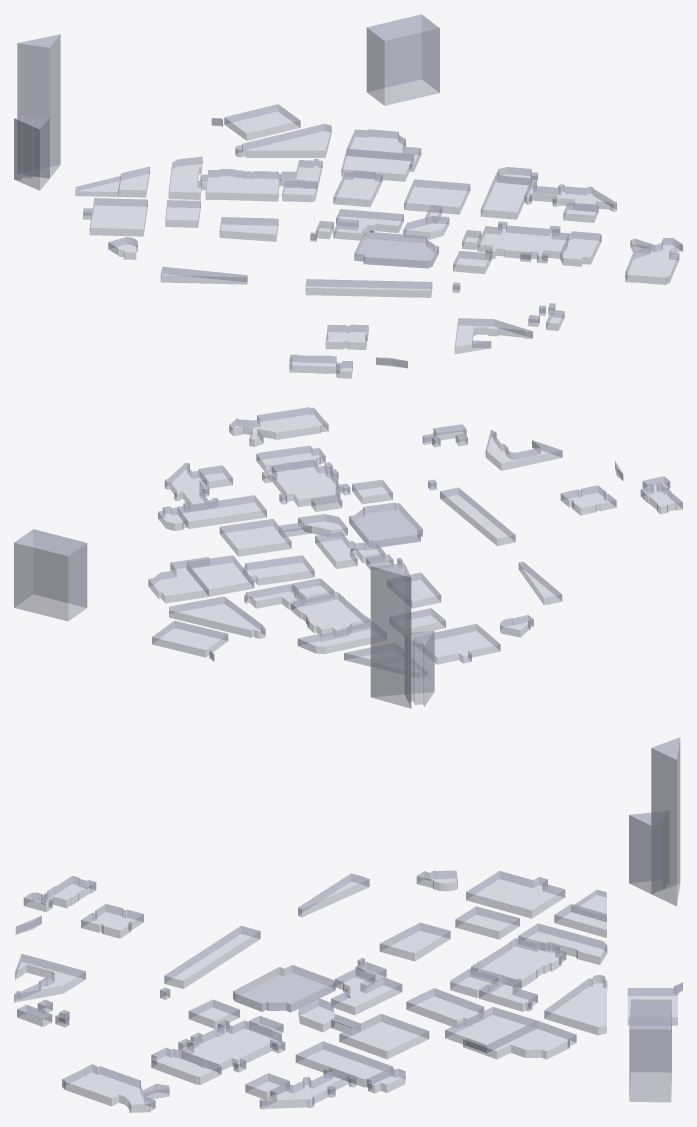
The model's file is tile-buildings(-84.390000,33.750000,-84.385000,33.755000).osm.obj.postprocessed.obj.
The picture shows the model from 3 angles, top to bottom: view 1: azimuth 30°, elevation 25°; view 2: azimuth 150°, elevation 25°; view 3: azimuth 270°, elevation 25°; orthographic projection. The views are drawn at different scales.
Parts seen in each view (by area): view 1: Building_34_Peachtree_St._Building, Building_Robert_W._Woodruff_Volunteer_Service_Center_Building, Building_Sports_Arena, Building_G_Deck, Building_William-Oliver_Building, Building_Natural_Science_Center, Building15, Building8, Building_Petit_Science_Center, Building_Georgia_Railroad_Freight_Depot, Building_Library_North, Building_Arts_&_Humanities (+22 smaller); view 2: Building_Robert_W._Woodruff_Volunteer_Service_Center_Building, Building_34_Peachtree_St._Building, Building_Sports_Arena, Building_G_Deck, Building_Petit_Science_Center, Building15, Building_Natural_Science_Center, Building8, Building_William-Oliver_Building, Building_Student_Center_West, Building_Library_North, Building_Arts_&_Humanities (+23 smaller); view 3: Building_34_Peachtree_St._Building, Building_Robert_W._Woodruff_Volunteer_Service_Center_Building, Building_Sports_Arena, Building_G_Deck, Building_William-Oliver_Building, Building8, Building_Petit_Science_Center, Building_Natural_Science_Center, Building_Arts_&_Humanities, Building_Library_North, Building15, Building_Student_Center_West (+24 smaller).
Boxes of the visible parts, left/top/right/bottom form: Building_34_Peachtree_St._Building: left=17, top=34, right=60, bottom=178; Building_Robert_W._Woodruff_Volunteer_Service_Center_Building: left=366, top=14, right=439, bottom=105; Building_Sports_Arena: left=477, top=221, right=568, bottom=263; Building_G_Deck: left=354, top=231, right=438, bottom=268; Building_William-Oliver_Building: left=14, top=115, right=49, bottom=190; Building_Natural_Science_Center: left=200, top=169, right=280, bottom=201; Building15: left=235, top=123, right=331, bottom=157; Building8: left=83, top=198, right=147, bottom=236; Building_Petit_Science_Center: left=625, top=237, right=682, bottom=284; Building_Georgia_Railroad_Freight_Depot: left=305, top=279, right=432, bottom=297; Building_Library_North: left=404, top=179, right=470, bottom=214; Building_Arts_&_Humanities: left=347, top=129, right=421, bottom=171; Building_Robert_W._Woodruff_Volunteer_Service_Center_Building: left=14, top=529, right=87, bottom=621; Building_34_Peachtree_St._Building: left=370, top=563, right=411, bottom=708; Building_Sports_Arena: left=262, top=459, right=350, bottom=506; Building_G_Deck: left=349, top=502, right=422, bottom=547; Building_Petit_Science_Center: left=229, top=407, right=328, bottom=446; Building15: left=169, top=596, right=265, bottom=638; Building_Natural_Science_Center: left=290, top=592, right=370, bottom=635; Building8: left=414, top=623, right=500, bottom=664; Building_William-Oliver_Building: left=405, top=630, right=434, bottom=706; Building_Student_Center_West: left=177, top=495, right=266, bottom=528; Building_Library_North: left=219, top=519, right=291, bottom=556; Building_Arts_&_Humanities: left=148, top=557, right=209, bottom=603; Building_34_Peachtree_St._Building: left=651, top=737, right=680, bottom=905; Building_Robert_W._Woodruff_Volunteer_Service_Center_Building: left=629, top=999, right=671, bottom=1102; Building_Sports_Arena: left=178, top=1020, right=285, bottom=1072; Building_G_Deck: left=233, top=965, right=335, bottom=1012; Building_William-Oliver_Building: left=629, top=811, right=668, bottom=893; Building8: left=466, top=871, right=565, bottom=918; Building_Petit_Science_Center: left=62, top=1064, right=169, bottom=1112; Building_Natural_Science_Center: left=471, top=938, right=566, bottom=987; Building_Arts_&_Humanities: left=463, top=1020, right=576, bottom=1059; Building_Library_North: left=339, top=1013, right=429, bottom=1059; Building15: left=544, top=975, right=607, bottom=1035; Building_Student_Center_West: left=295, top=1041, right=393, bottom=1087.
Size of the model in its own units: 460 by 135 by 555.
